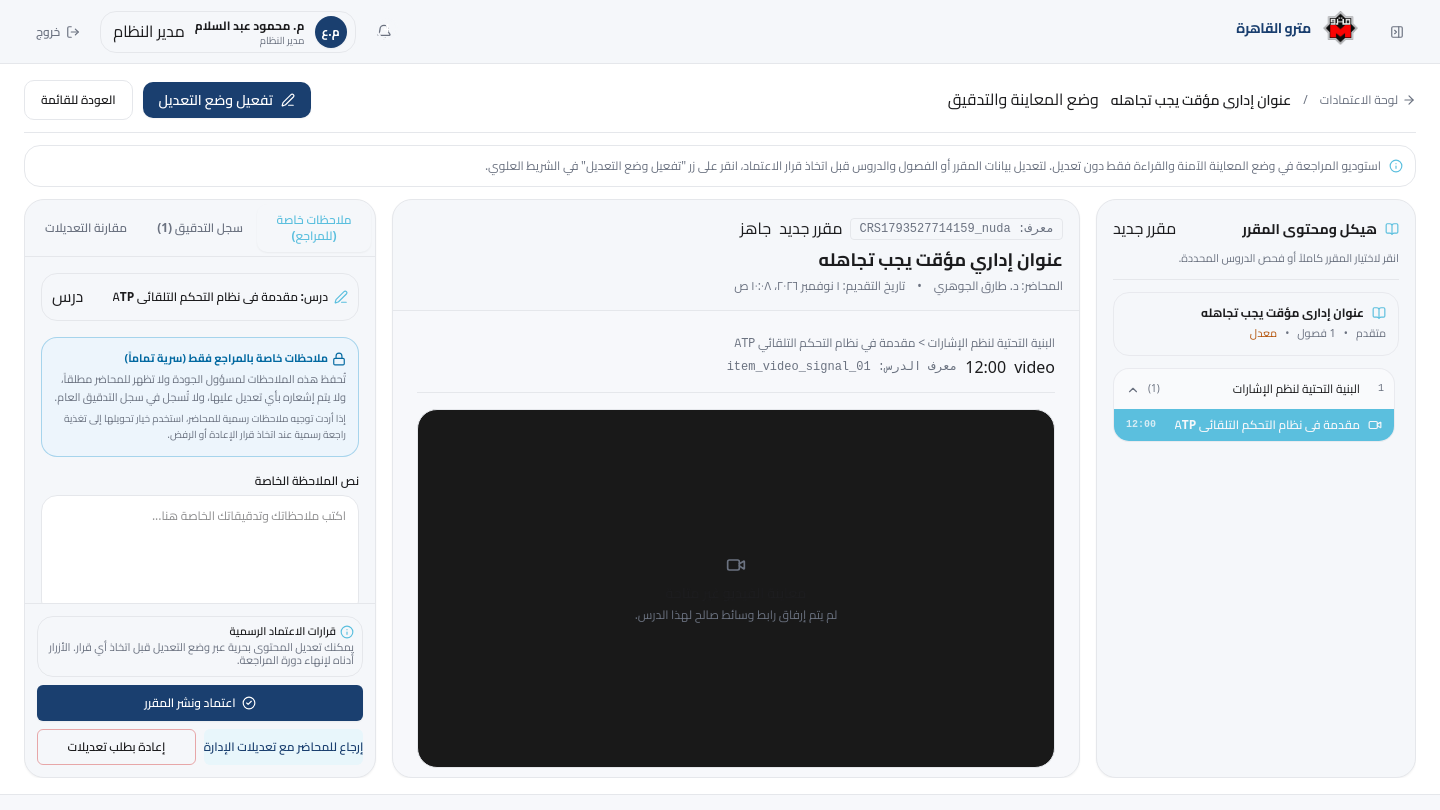
it: Increment 9 — Phase 6: Decision Modal & The Three Review Outcomes › Outcome A: Approve & Publish › presents two-way choice when staged edits exist: choice 1 publishes submitted baseline unchanged
This screenshot has width=1440, height=810.
Click the button with test id "action-approve-btn" at (200, 703), box [37,685,363,721]
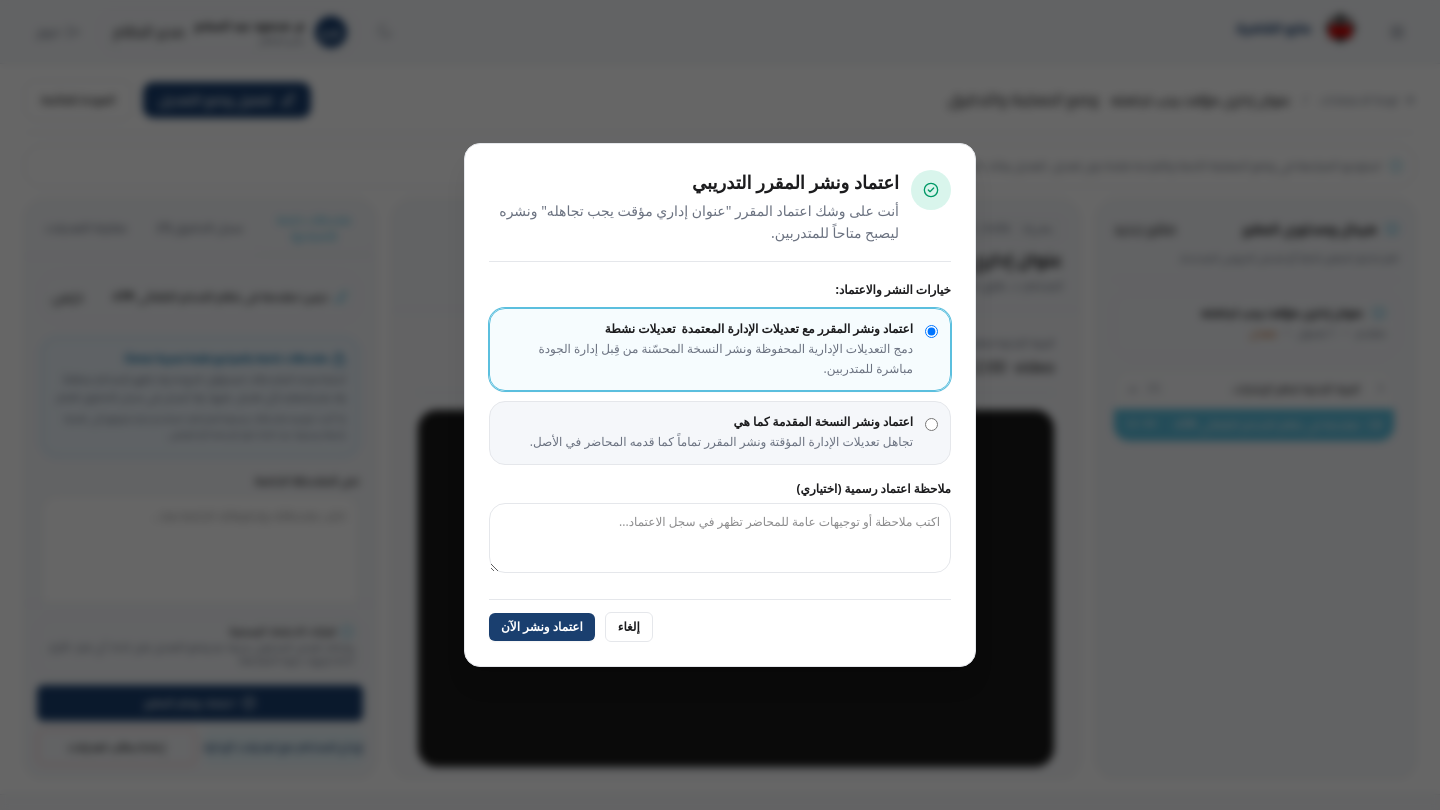
Result: the element with test id "publish-choice-container" is shown at [489,282,951,465]
Result: the label with test id "publish-choice-submitted" is shown
Result: the label with test id "publish-choice-staged" is shown at [489,308,951,391]
Select Choice 1: Publish submitted baseline unchanged
Click the label with test id "publish-choice-submitted" at (720, 433), box [489,401,951,465]
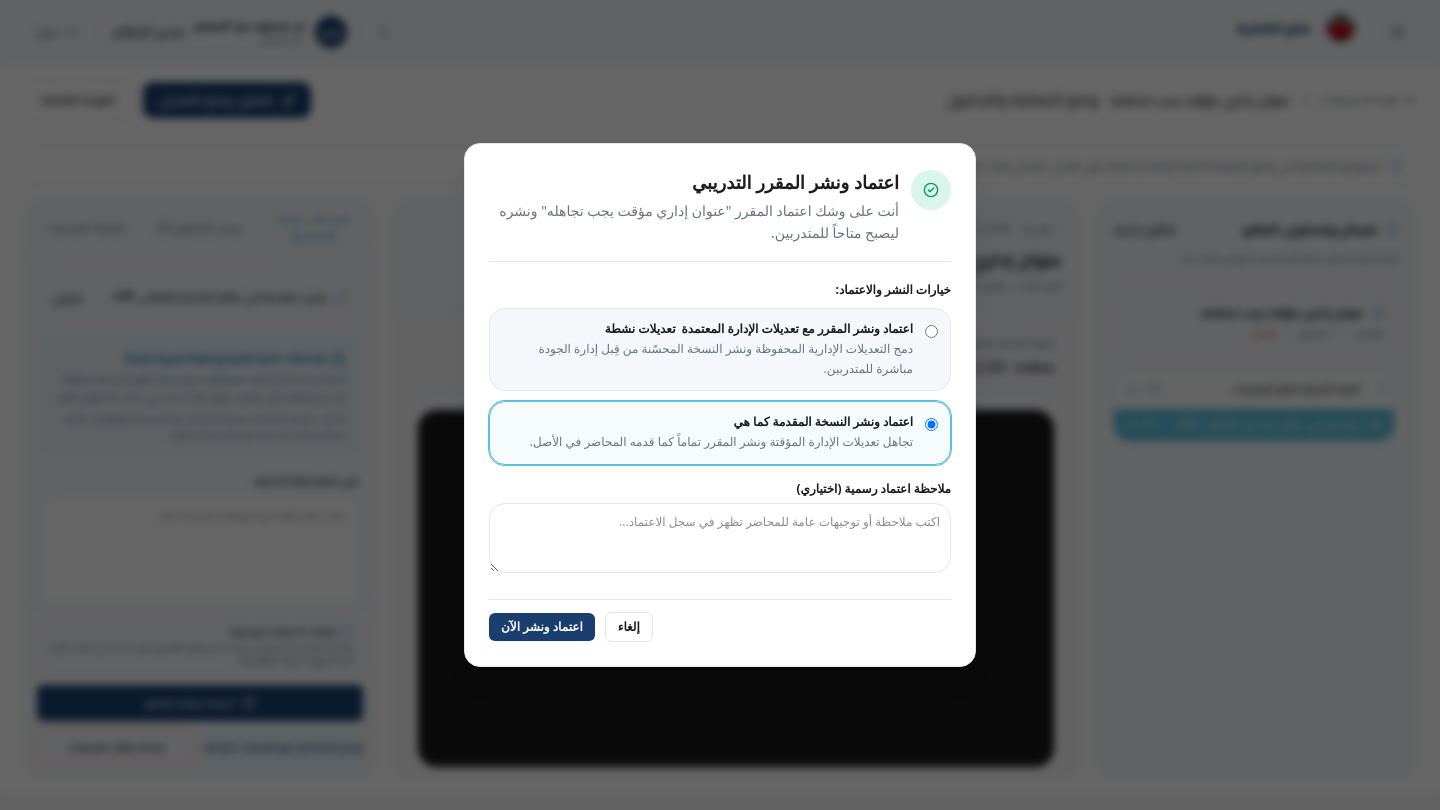
Click the button with test id "confirm-approve-btn" at (542, 627), box [489,613,595,641]
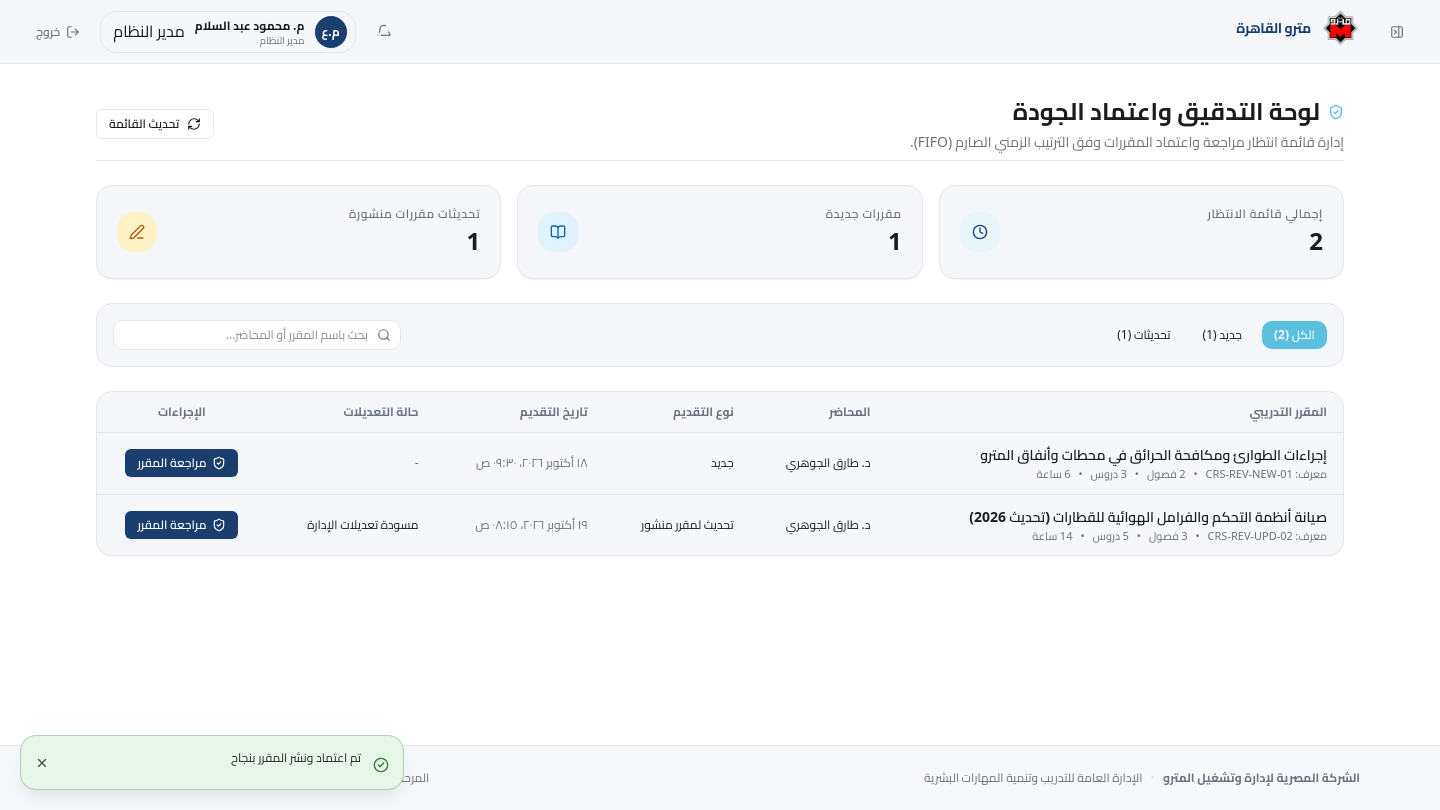
Result: the element with test id "approvals-page" is shown at [80,64,1360,588]
